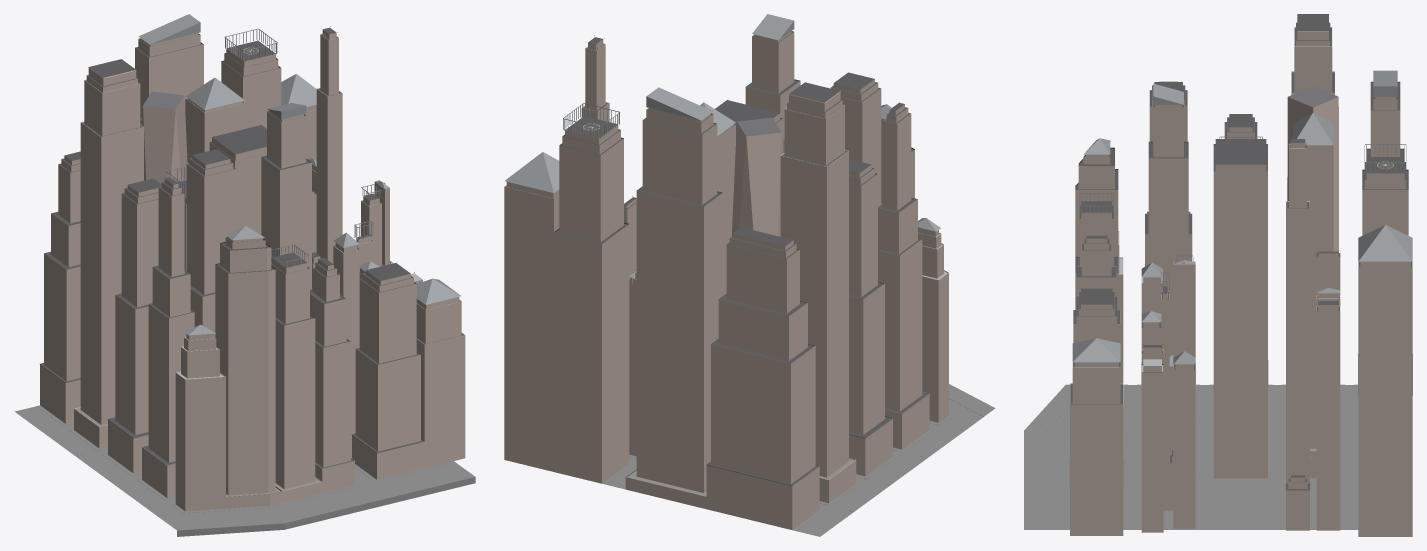
3 renders of one model, left to right at view 1: azimuth 30°, elevation 25°; view 2: azimuth 150°, elevation 25°; view 3: azimuth 270°, elevation 25°, orthographic. The views are drawn at different scales.
Visible parts, largest first — view 1: t17_facade, t17_roof, t17_ground, t17_detail; view 2: t17_facade, t17_roof, t17_ground, t17_detail; view 3: t17_facade, t17_ground, t17_roof, t17_detail.
Part boxes in pixels (x1=…): t17_facade: x1=40, y1=30, x2=465, y2=511; t17_roof: x1=41, y1=14, x2=463, y2=496; t17_ground: x1=14, y1=405, x2=475, y2=536; t17_detail: x1=40, y1=33, x2=464, y2=496; t17_facade: x1=504, y1=31, x2=948, y2=529; t17_roof: x1=505, y1=14, x2=947, y2=496; t17_ground: x1=602, y1=384, x2=995, y2=536; t17_detail: x1=504, y1=31, x2=948, y2=496; t17_facade: x1=1070, y1=32, x2=1412, y2=536; t17_ground: x1=1024, y1=384, x2=1358, y2=529; t17_roof: x1=1070, y1=14, x2=1412, y2=489; t17_detail: x1=1069, y1=27, x2=1412, y2=490.
Bounding box in the file's own units: 398 × 484 × 430.
